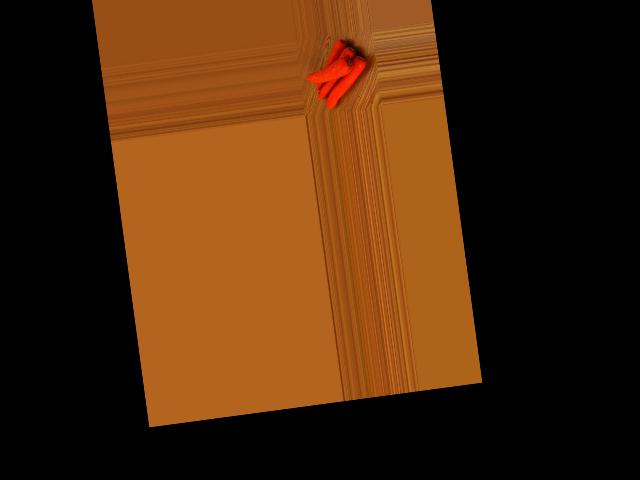carrot: (313, 33, 353, 78)
